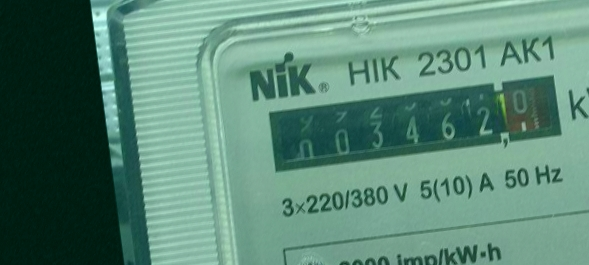0: (331, 124, 352, 156), (509, 86, 530, 116), (294, 135, 316, 160)
2: (473, 103, 495, 137)
3: (365, 118, 387, 152)
4: (402, 112, 423, 146)
6: (436, 108, 460, 144)
9: (294, 113, 316, 134)
screen: (254, 61, 575, 192)
